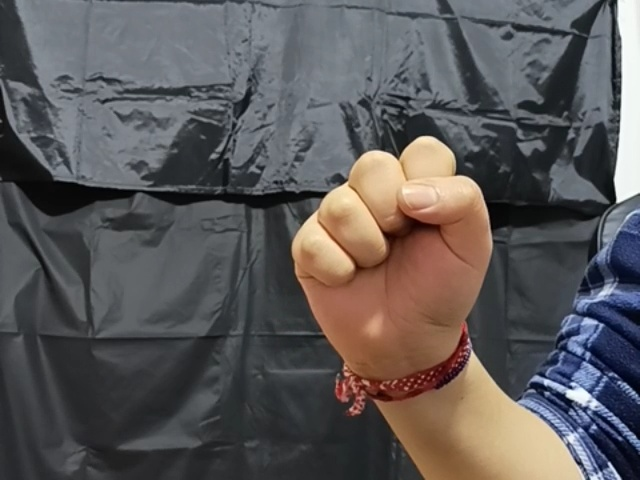S: (284, 132, 497, 347)
